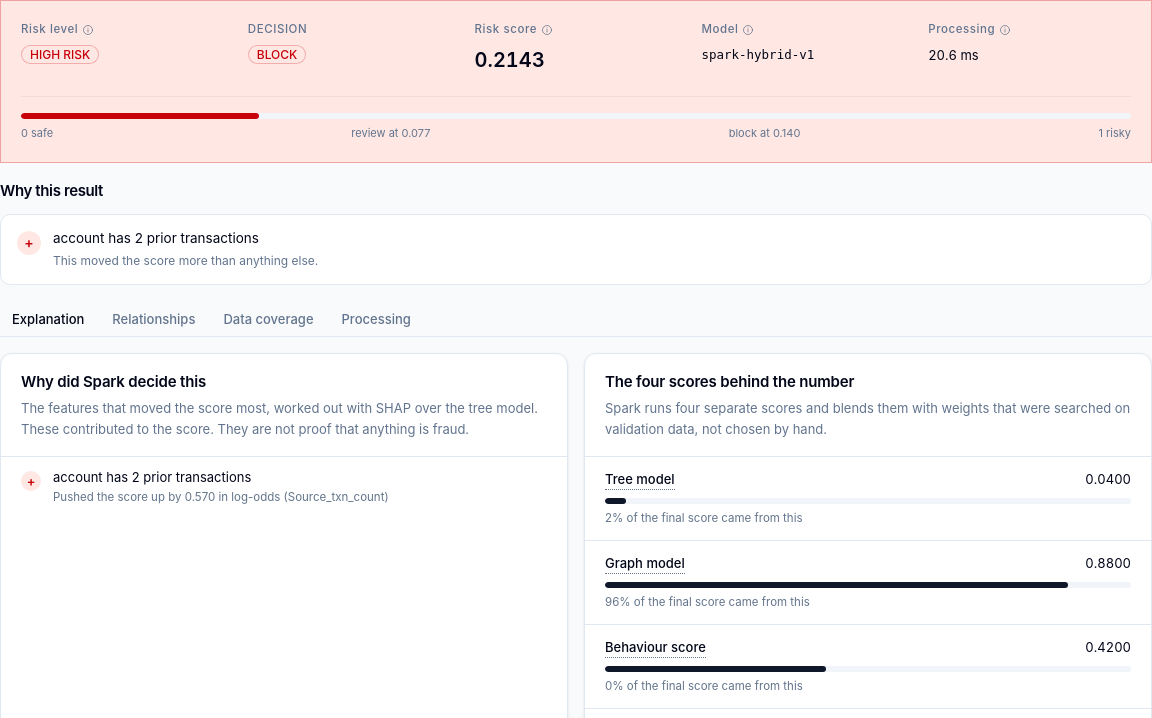
Test: the risk result › marks device and network as unsupported rather than hiding them
This screenshot has width=1152, height=718.
Click the tab "Data coverage" at (268, 319), box [211,301,326,337]
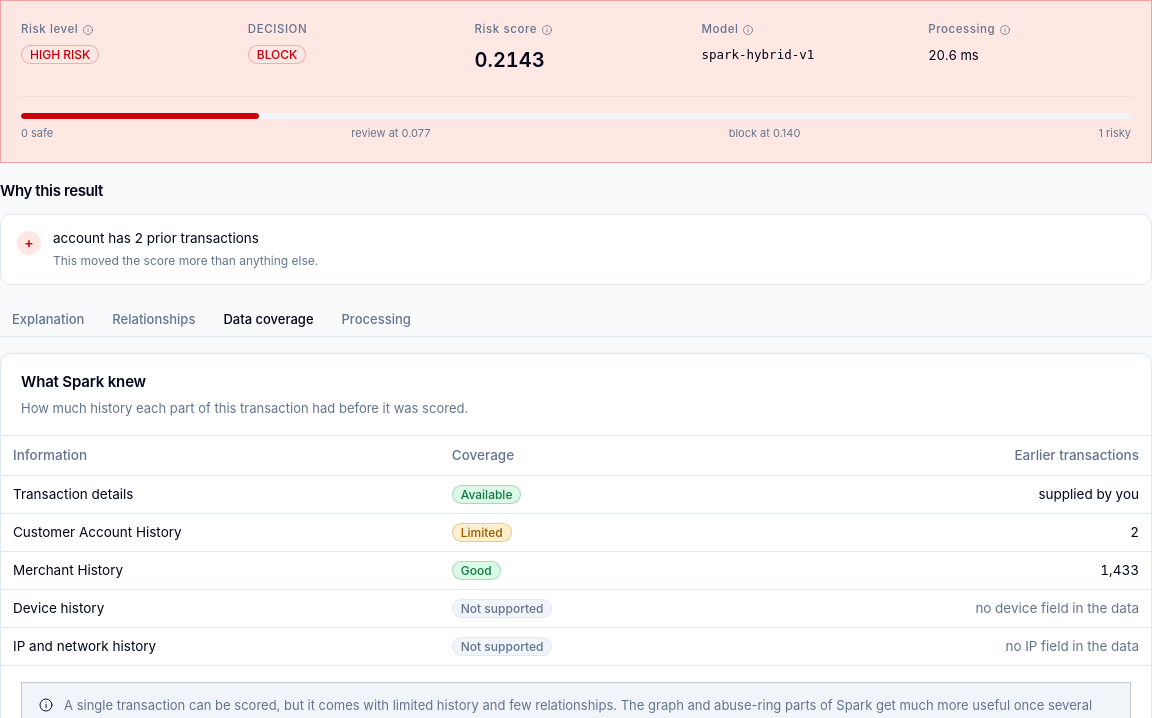
Result: the text "Device history" is shown at [1,589,440,627]
Result: the text "Not supported" in the row of "Device history" is shown at [461,601,544,616]
